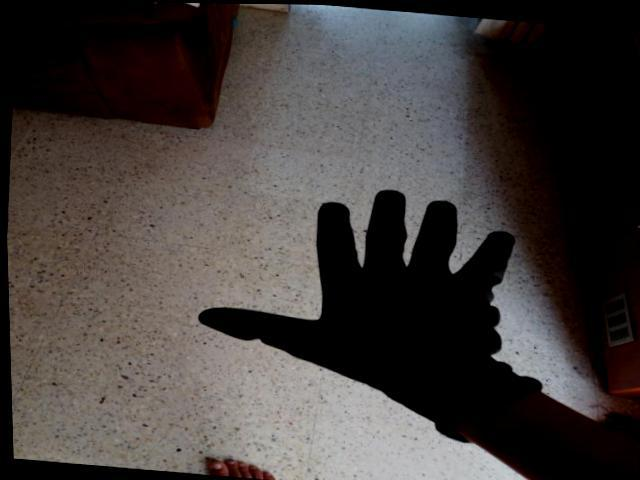Hand-in-Glove: (140, 170, 592, 458)
